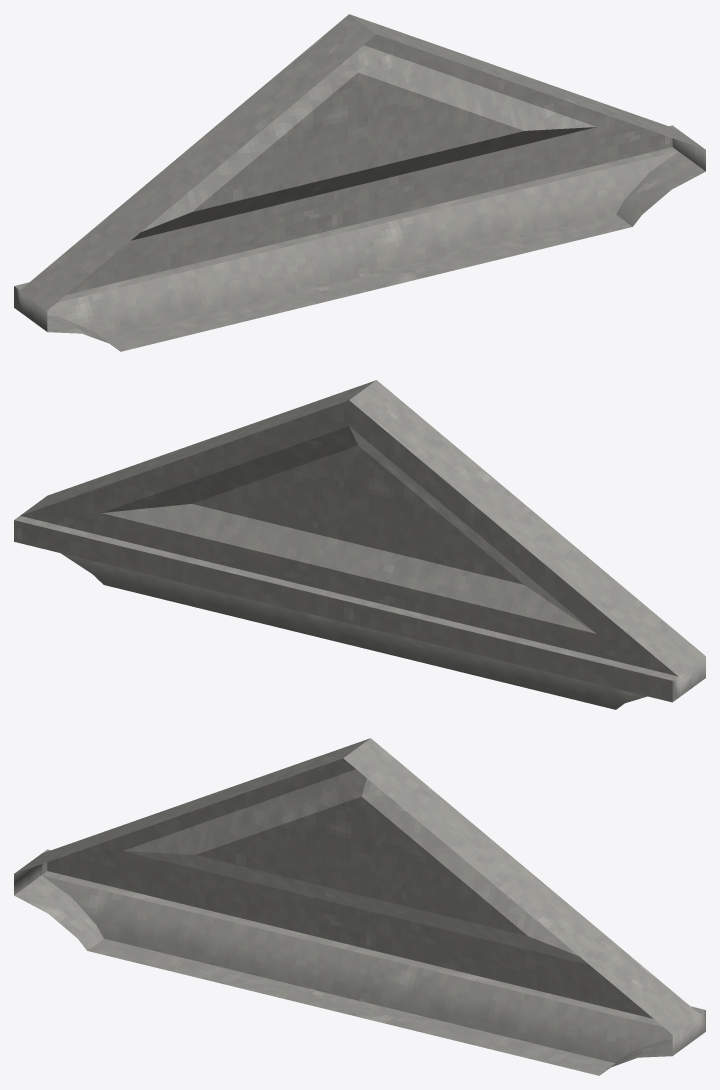
File: GJ_Wall_Window_03.fbx
The picture shows the model from 3 angles, top to bottom: view 1: azimuth 30°, elevation 25°; view 2: azimuth 150°, elevation 25°; view 3: azimuth 330°, elevation 25°; orthographic projection.
Visible parts, largest first — view 1: GJ_Wall_Window_03; view 2: GJ_Wall_Window_03; view 3: GJ_Wall_Window_03.
Part boxes in pixels (x1,y1,x2,y2): GJ_Wall_Window_03: (14, 14, 705, 351); GJ_Wall_Window_03: (14, 380, 705, 709); GJ_Wall_Window_03: (14, 738, 705, 1075).
Bounding box in the file's own units: 169 × 62.56 × 14.88.
